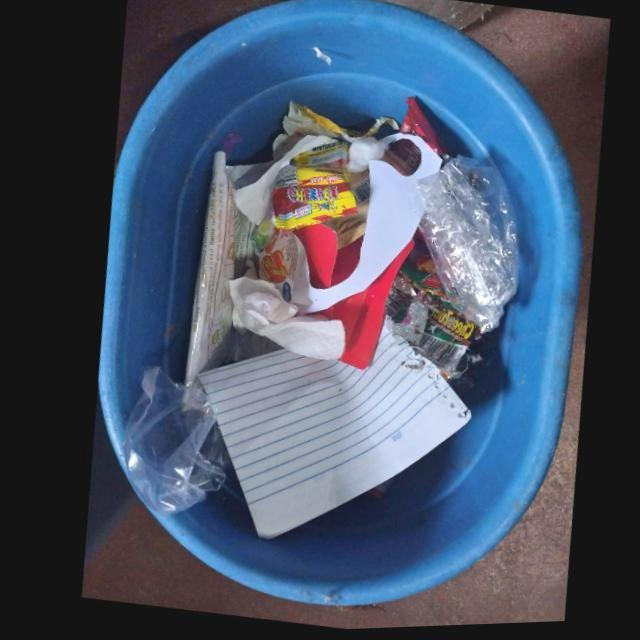food_wrapper: (268, 143, 355, 232), (271, 104, 361, 162), (413, 312, 468, 379), (402, 235, 443, 296)
paper: (285, 102, 442, 373), (221, 130, 346, 227), (227, 276, 338, 363)
plastic_bag: (418, 159, 512, 338), (119, 368, 224, 514)
